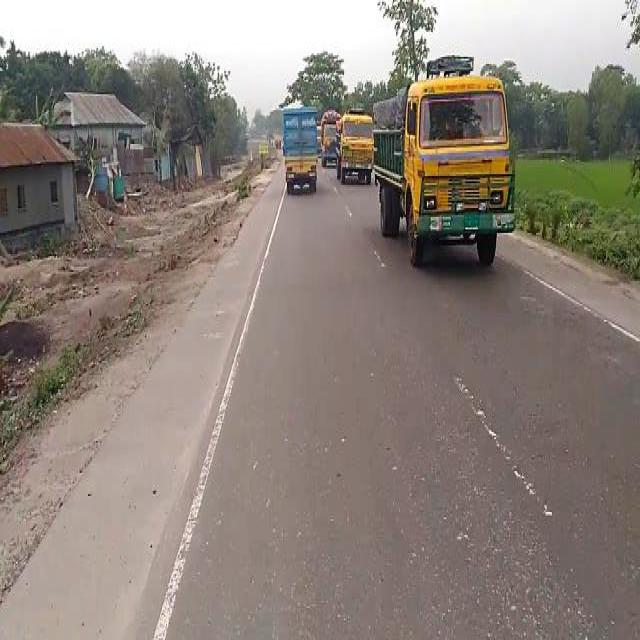pickup: (280, 104, 322, 195)
truck: (370, 60, 516, 268), (334, 103, 376, 185), (320, 110, 338, 164)
